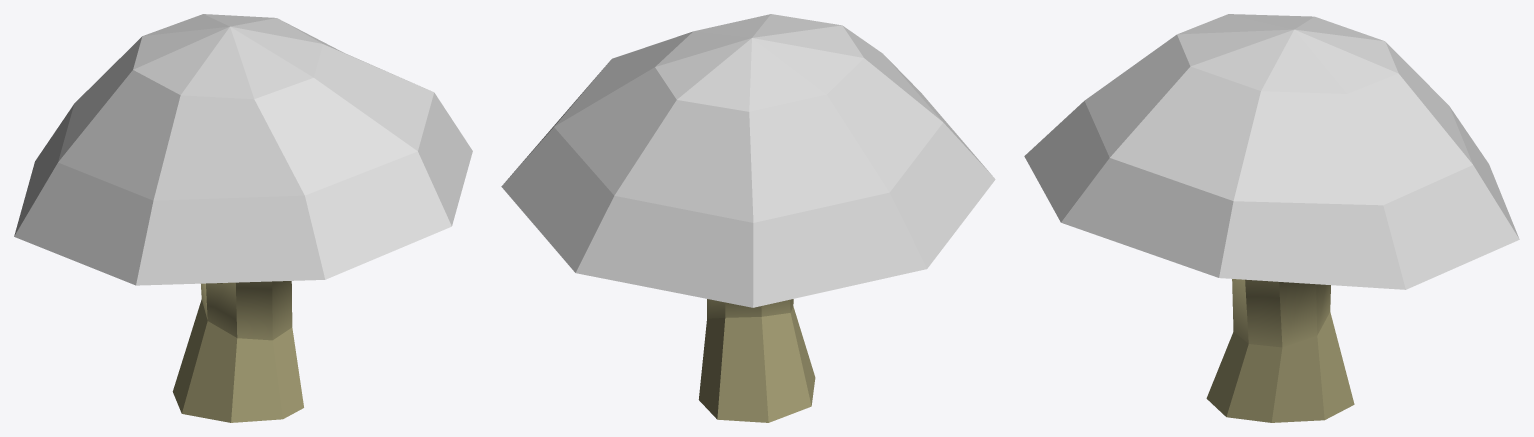
File: mushroom.fbx
The picture shows the model from 3 angles, left to right: view 1: azimuth 30°, elevation 25°; view 2: azimuth 150°, elevation 25°; view 3: azimuth 270°, elevation 25°; orthographic projection. The views are drawn at different scales.
Visible parts, largest first — view 1: Mushroom; view 2: Mushroom; view 3: Mushroom.
Boxes of the visible parts, left/top/right/bottom form: Mushroom: left=14, top=14, right=472, bottom=422; Mushroom: left=501, top=14, right=995, bottom=422; Mushroom: left=1024, top=14, right=1519, bottom=422.
Bounding box in the file's own units: 23.26 × 20.44 × 24.65.
